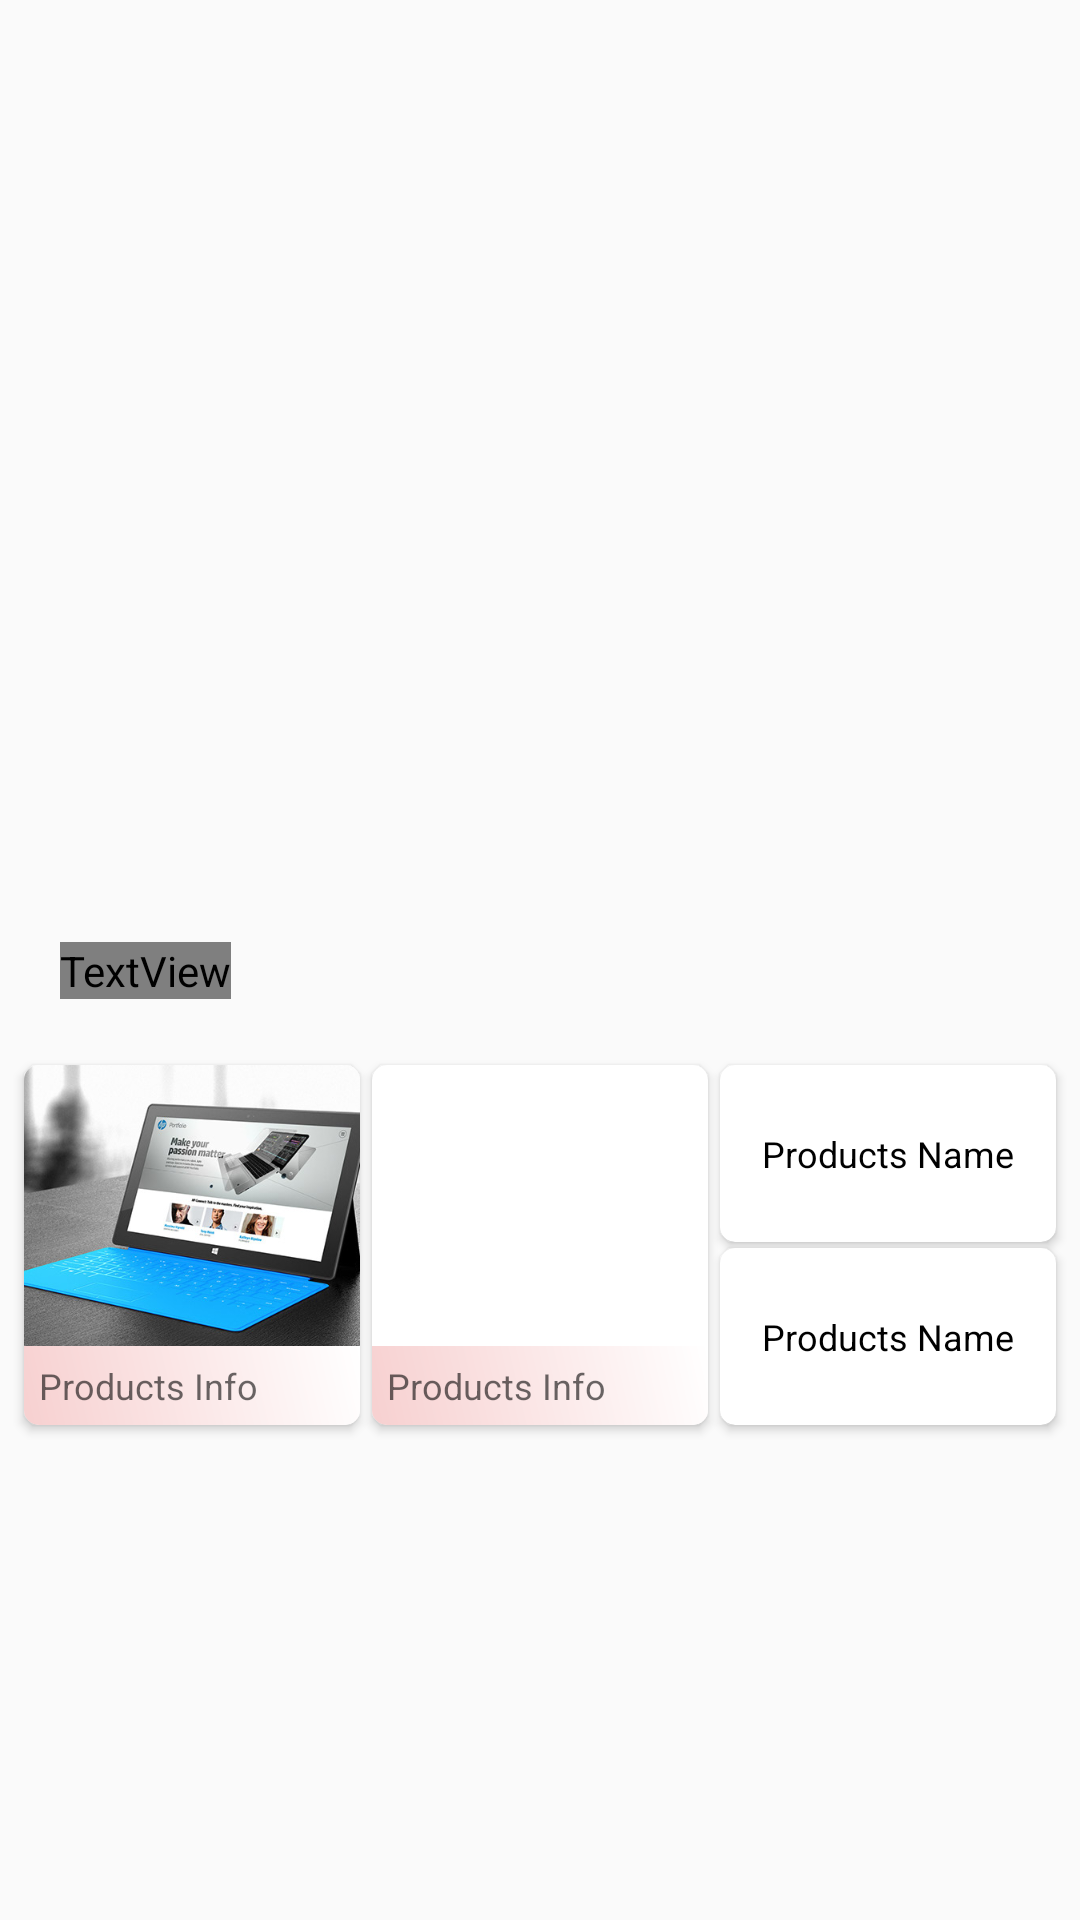

Named icons in this screenshot (1080w x 1920h) and their bounding boxes, (x1, y1, x2, y2):
laptop: (24, 1065, 360, 1365)
